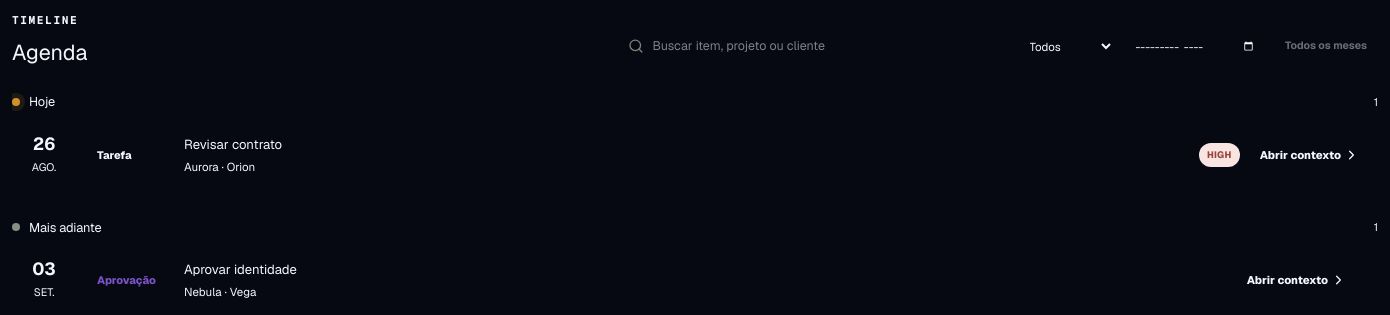
it: Marco 23 unified agenda › shows a purposeful empty state when search has no matches
Type "inexistente" into the search field named "Buscar na agenda" at (822, 46), box [652,24,992,68]
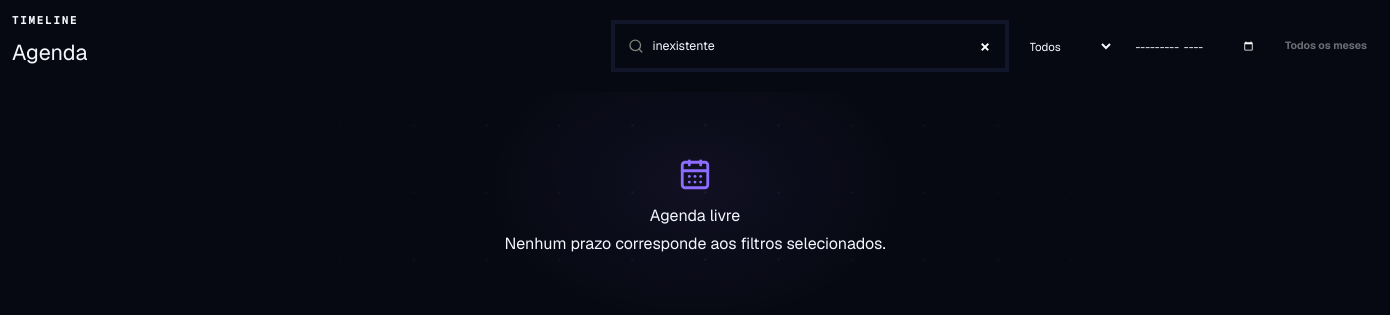
Check: the heading "Agenda livre" is shown, box [650,204,740,228]
